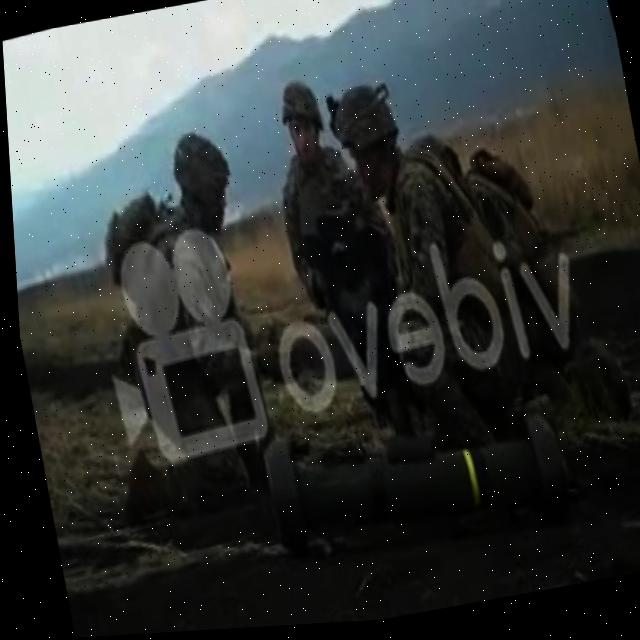rocket: (249, 377, 570, 566)
